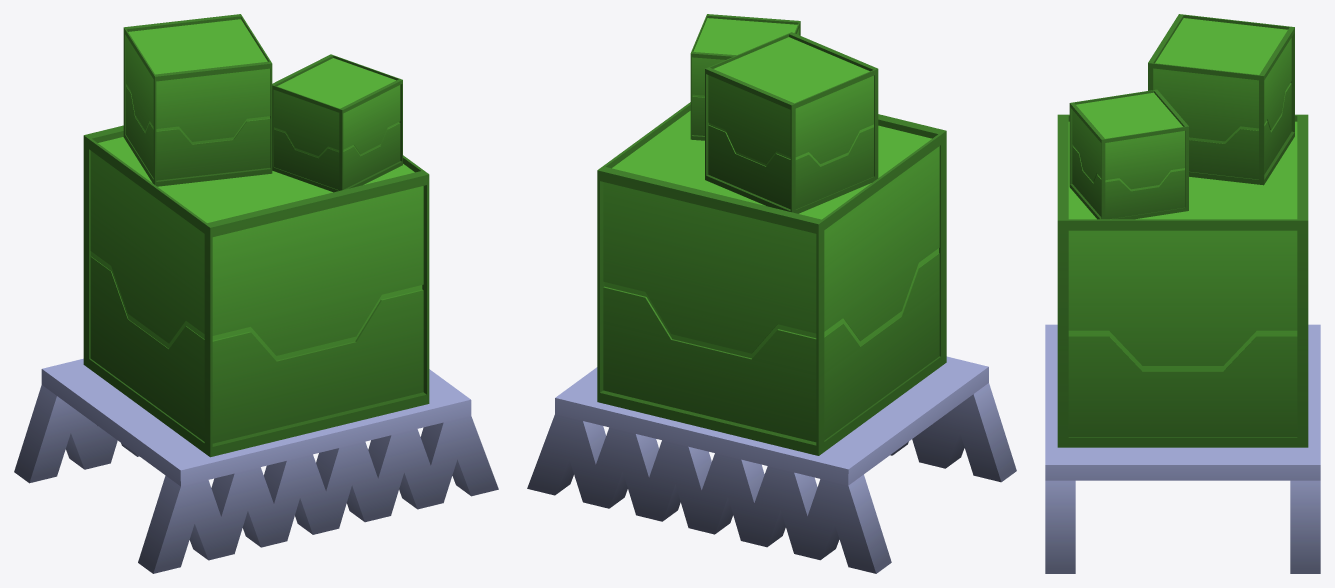
File: stand-DYPQqUtJ.obj
The picture shows the model from 3 angles, left to right: view 1: azimuth 30°, elevation 25°; view 2: azimuth 150°, elevation 25°; view 3: azimuth 270°, elevation 25°; orthographic projection. The views are drawn at different scales.
Parts seen in each view (by area): view 1: Stand; view 2: Stand; view 3: Stand.
Part boxes in pixels (x1=…): Stand: x1=14, y1=14, x2=498, y2=573; Stand: x1=527, y1=14, x2=1016, y2=573; Stand: x1=1045, y1=14, x2=1320, y2=573.
Size of the model in its own units: 5.39 by 6.42 by 3.76.
